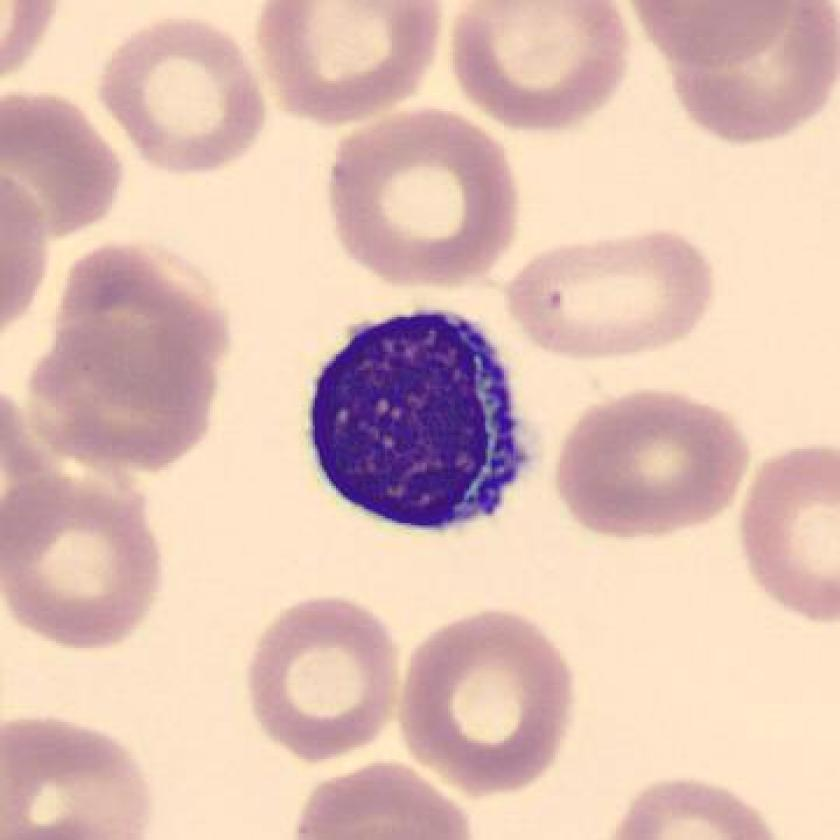lymphocyte: (286, 300, 549, 552)
